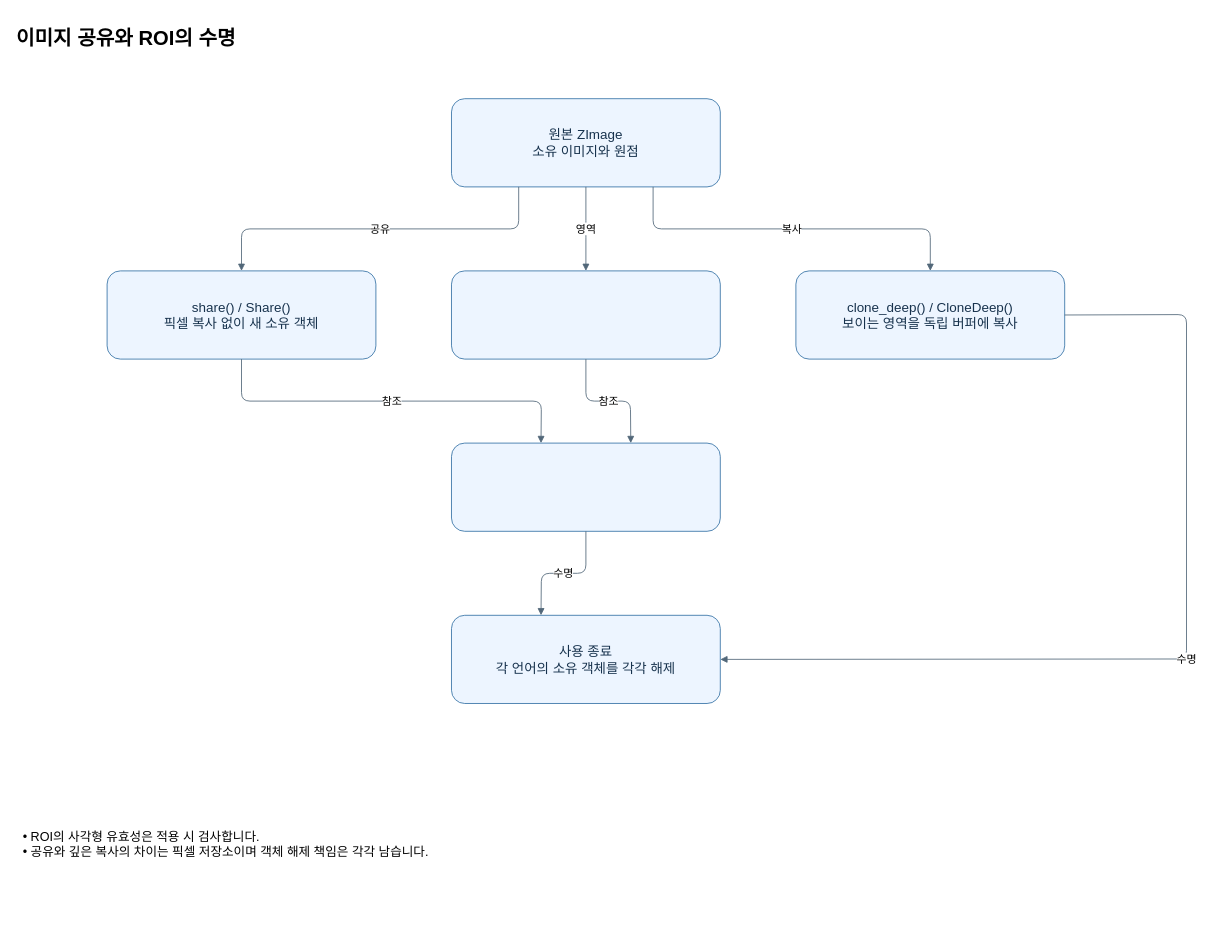
This 1211x932 diagram has some shape labels left out. The shapes that lost their labels are listed below. From the top down, each one's centre as x and y in pixels, then its label:
the point at 585,314: roi(rect) / Roi(rect) 보이는 영역과 원점이 달라짐
the point at 585,486: 공유 픽셀 저장소 별도 객체들이 같은 저장소 참조
